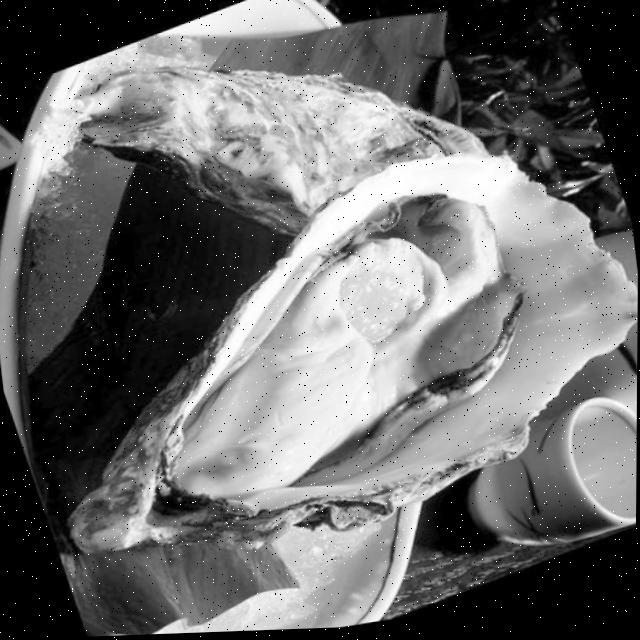Oyster-Indeterminate: (61, 9, 495, 269)
Oyster-Open: (28, 120, 639, 572)
